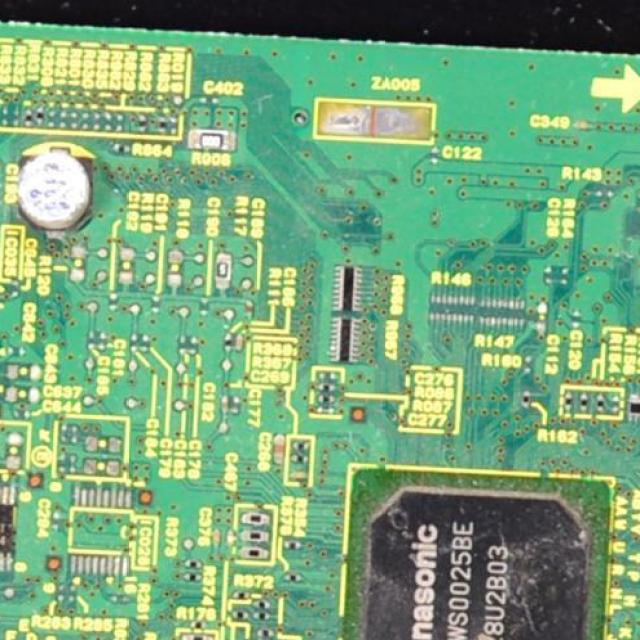IC: (353, 464, 606, 640), (0, 480, 13, 576)
capacitor: (18, 148, 94, 229), (164, 249, 184, 292), (119, 248, 137, 287), (84, 434, 124, 451), (5, 432, 23, 468), (80, 461, 120, 477), (74, 246, 88, 286), (270, 434, 286, 469), (6, 387, 39, 402), (9, 365, 41, 380), (210, 528, 223, 549), (315, 405, 335, 416), (291, 469, 313, 479), (316, 372, 338, 381)
resistor: (330, 318, 367, 370), (331, 263, 367, 315), (188, 130, 236, 152), (239, 544, 278, 560), (239, 508, 273, 526), (172, 627, 218, 640), (216, 254, 231, 290), (588, 391, 606, 416), (284, 538, 308, 554), (628, 393, 640, 424), (561, 390, 574, 418), (231, 588, 256, 602), (241, 531, 270, 542), (577, 390, 591, 412), (283, 574, 304, 588), (182, 559, 206, 571), (258, 627, 280, 640), (253, 612, 276, 624), (520, 388, 531, 413), (290, 441, 313, 450), (317, 384, 337, 394), (184, 573, 204, 582), (232, 610, 248, 621), (291, 455, 309, 463), (316, 395, 336, 402), (255, 601, 273, 608)
